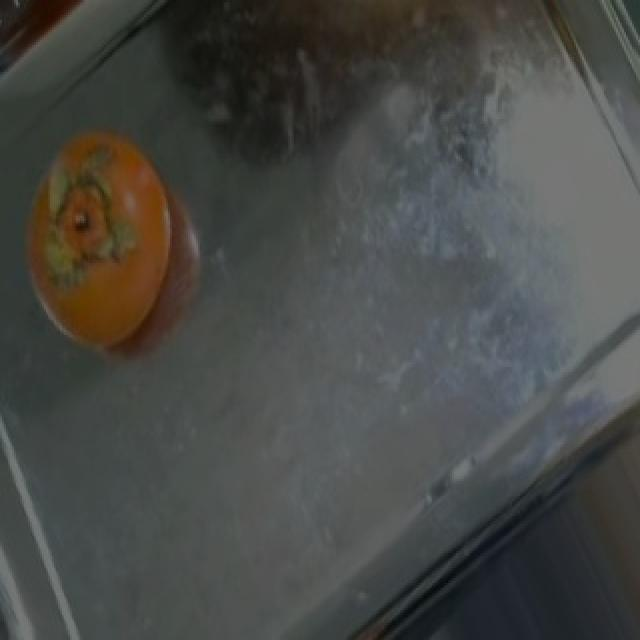Fruit: (0, 109, 198, 377)
